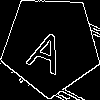A: (25, 20, 72, 76)
